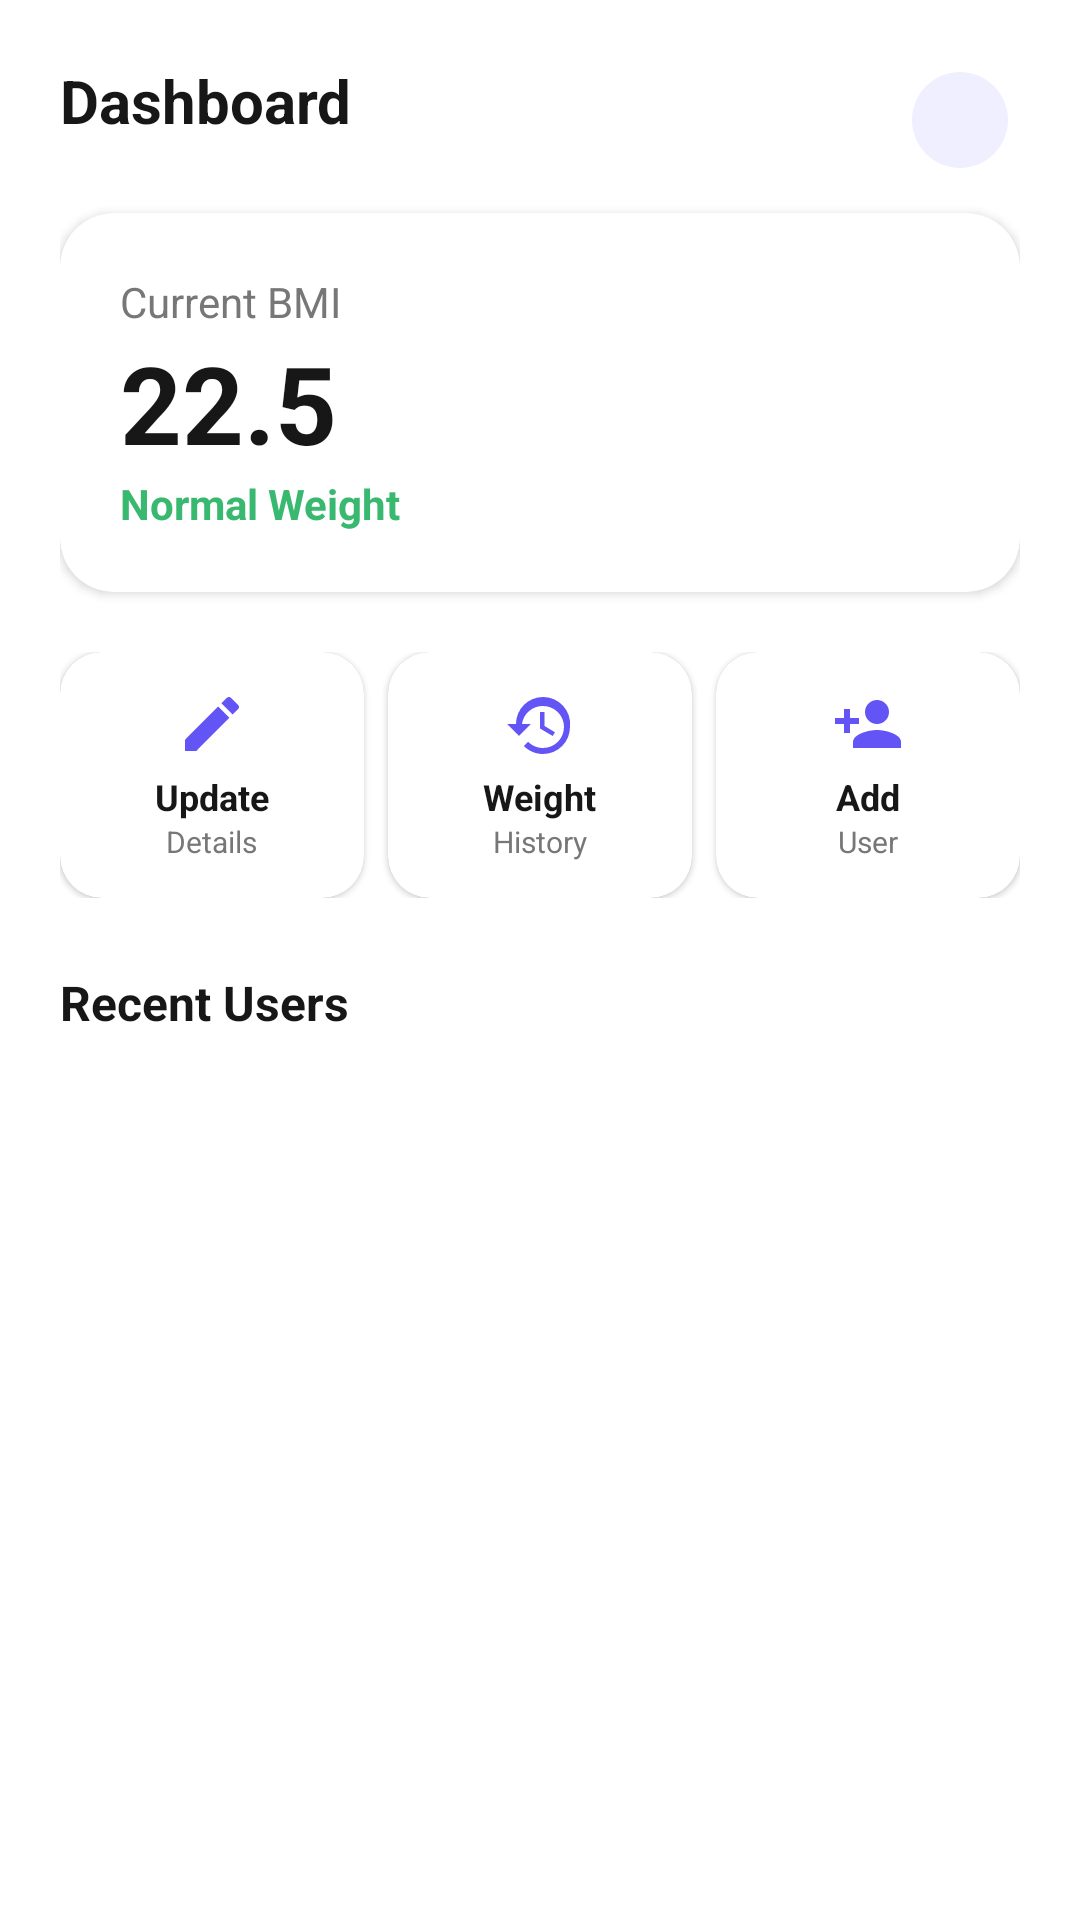

Icon click points for this 1080px×1920px phone screenshot, format (x=x, y=y):
edit: (x=212, y=724)
